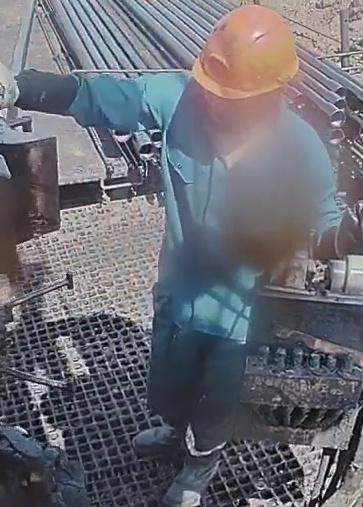gloves: (331, 199, 363, 256), (0, 58, 26, 113)
helmet: (191, 3, 299, 99)
vest: (150, 86, 326, 349)
